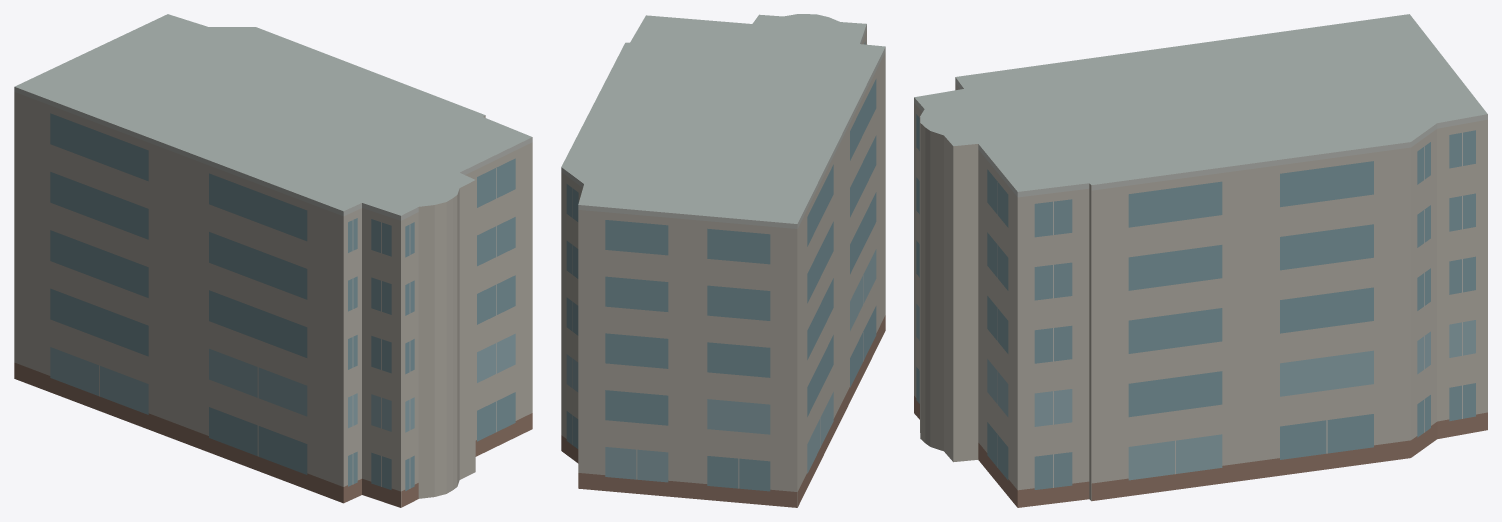
The model's file is survey-upis-32617605.glb.
The picture shows the model from 3 angles, left to right: view 1: azimuth 30°, elevation 25°; view 2: azimuth 150°, elevation 25°; view 3: azimuth 270°, elevation 25°; orthographic projection. The views are drawn at different scales.
Parts seen in each view (by area): view 1: survey-upis-32617605.tmp; view 2: survey-upis-32617605.tmp; view 3: survey-upis-32617605.tmp.
Boxes of the visible parts, left/top/right/bottom form: survey-upis-32617605.tmp: left=14, top=14, right=532, bottom=507; survey-upis-32617605.tmp: left=561, top=14, right=885, bottom=507; survey-upis-32617605.tmp: left=914, top=14, right=1487, bottom=507.
Bounding box in the file's own units: 16.92 × 14 × 23.05.
